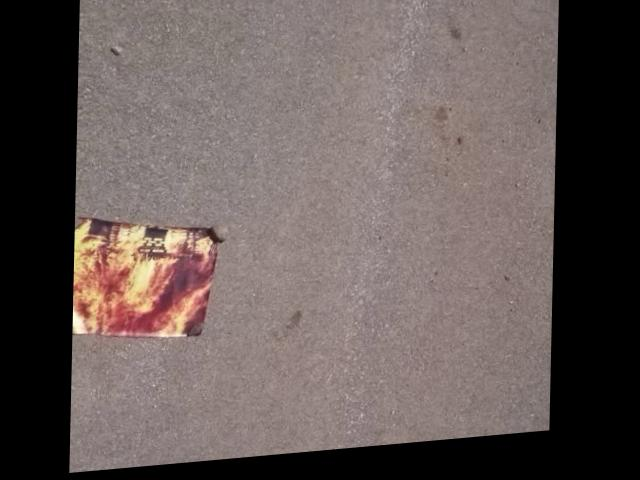fire-poster: (75, 205, 227, 351)
